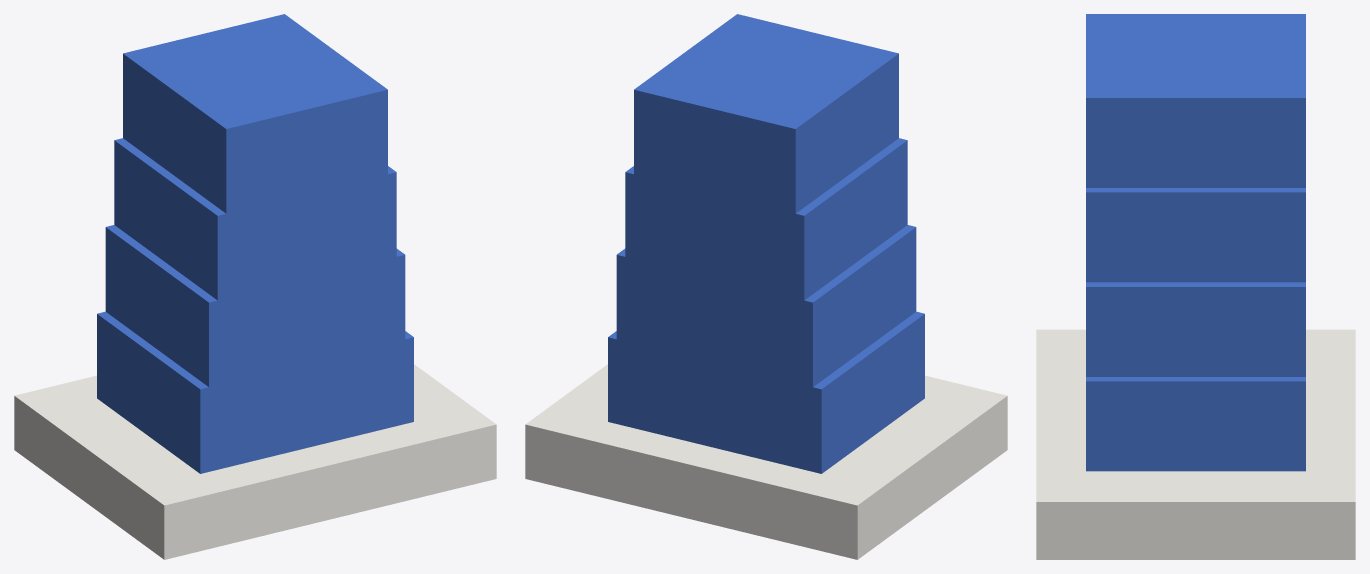
The model's file is bookshelf-lv4.glb.
The picture shows the model from 3 angles, left to right: view 1: azimuth 30°, elevation 25°; view 2: azimuth 150°, elevation 25°; view 3: azimuth 270°, elevation 25°; orthographic projection. The views are drawn at different scales.
Parts seen in each view (by area): view 1: Base, Level4, Level1, Level2, Level3; view 2: Base, Level4, Level1, Level2, Level3; view 3: Base, Level4, Level1, Level2, Level3.
Boxes of the visible parts, left/top/right/bottom form: Base: left=14, top=364, right=496, bottom=559; Level4: left=123, top=14, right=387, bottom=213; Level1: left=97, top=311, right=413, bottom=473; Level2: left=105, top=225, right=405, bottom=387; Level3: left=114, top=138, right=396, bottom=300; Base: left=525, top=364, right=1007, bottom=559; Level4: left=634, top=14, right=898, bottom=213; Level1: left=608, top=311, right=924, bottom=473; Level2: left=616, top=225, right=916, bottom=387; Level3: left=625, top=138, right=907, bottom=300; Base: left=1036, top=329, right=1355, bottom=559; Level4: left=1086, top=14, right=1305, bottom=187; Level1: left=1086, top=377, right=1305, bottom=471; Level2: left=1086, top=282, right=1305, bottom=376; Level3: left=1086, top=188, right=1305, bottom=282.
Bounding box in the file's own units: 1.15 × 1.3 × 0.9.
